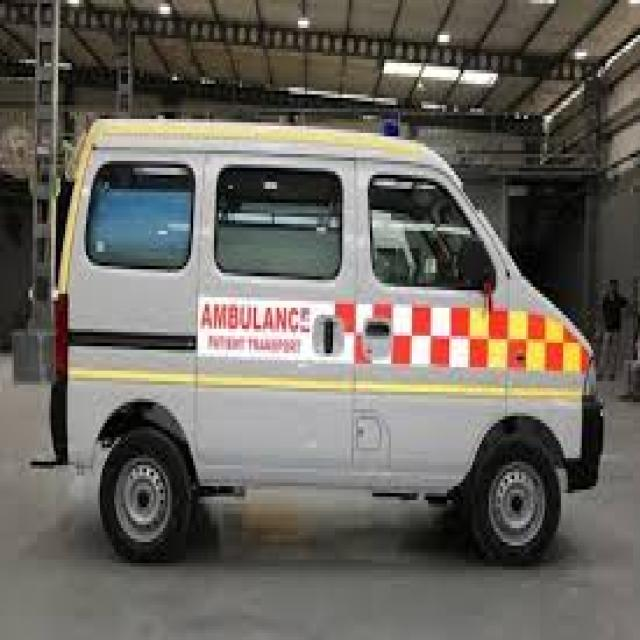ambulance: (56, 119, 600, 563)
